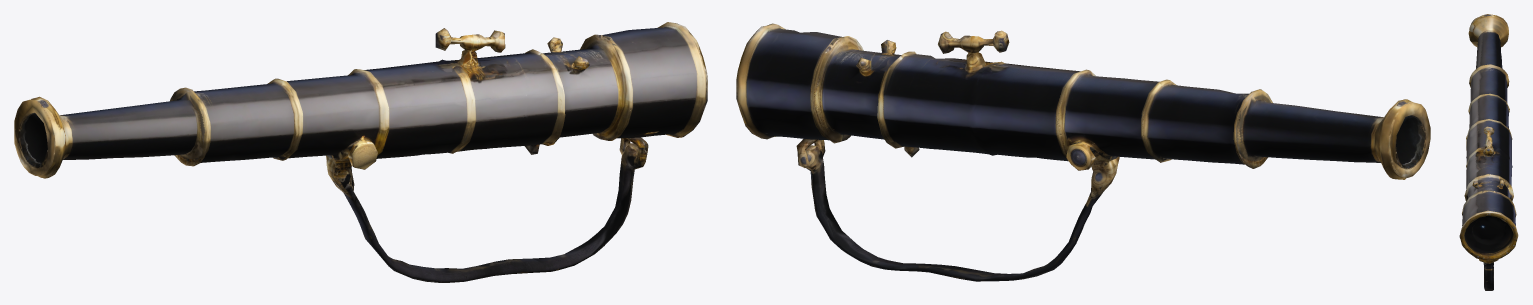
Rendered from galileo_telescope.fbx.
The picture shows the model from 3 angles, left to right: view 1: azimuth 30°, elevation 25°; view 2: azimuth 150°, elevation 25°; view 3: azimuth 270°, elevation 25°; orthographic projection. The views are drawn at different scales.
Visible parts, largest first — view 1: Mesh1.0; view 2: Mesh1.0; view 3: Mesh1.0.
Part boxes in pixels (x1=…): Mesh1.0: x1=14, y1=22, x2=707, y2=282; Mesh1.0: x1=736, y1=23, x2=1430, y2=281; Mesh1.0: x1=1459, y1=14, x2=1518, y2=290.
Size of the model in its own units: 200 by 85.24 by 31.25.
Materials: 1 (1 with a texture image).
